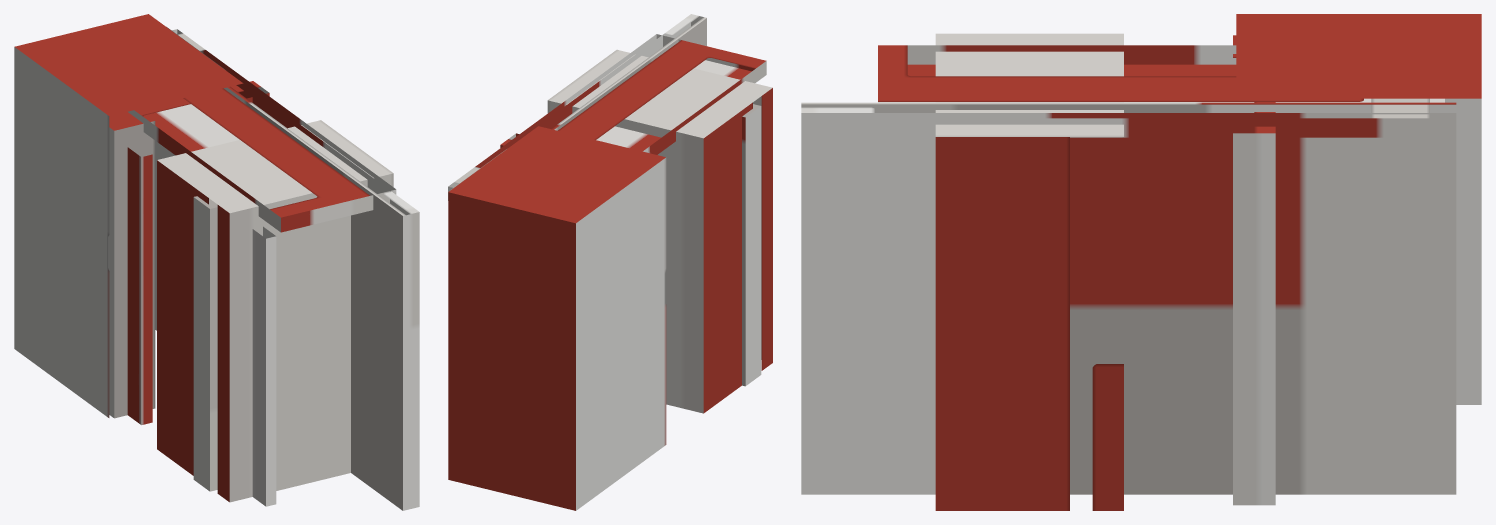
The model's file is section-4.obj.
The picture shows the model from 3 angles, left to right: view 1: azimuth 30°, elevation 25°; view 2: azimuth 150°, elevation 25°; view 3: azimuth 270°, elevation 25°; orthographic projection. The views are drawn at different scales.
Bounding box in the file's own units: 0.53 × 0.91 × 1.44.
